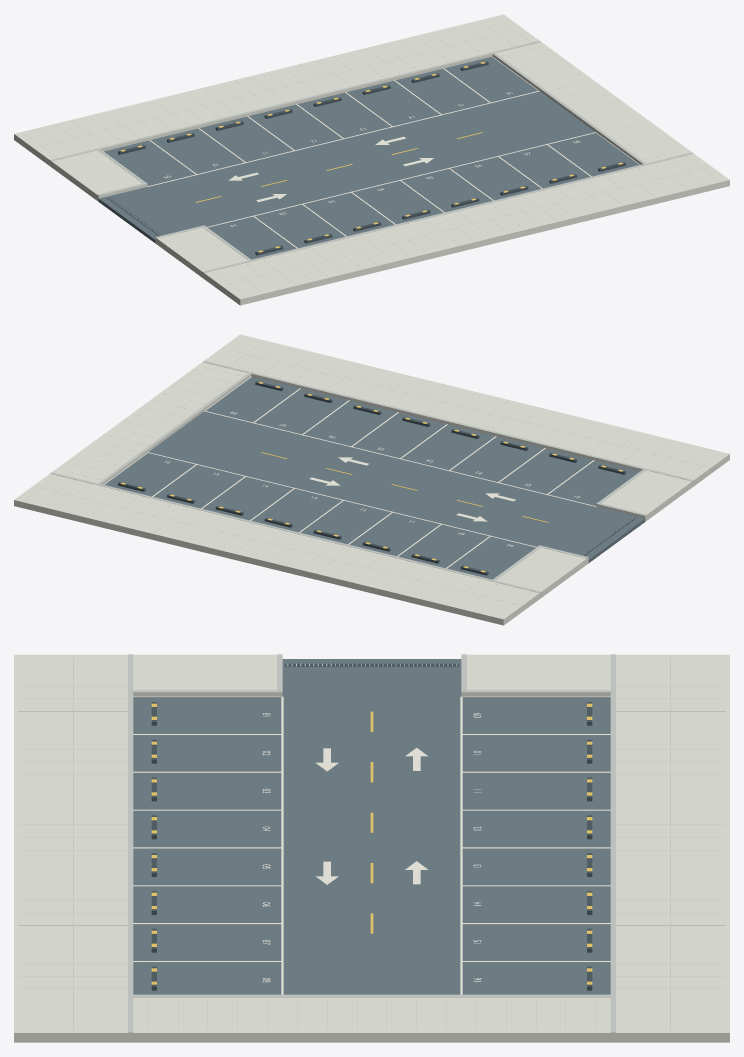
The model's file is SIMUS_Parking_Lot_16.glb.
The picture shows the model from 3 angles, top to bottom: view 1: azimuth 30°, elevation 25°; view 2: azimuth 150°, elevation 25°; view 3: azimuth 270°, elevation 25°; orthographic projection. The views are drawn at different scales.
Visible parts, largest first — view 1: Asphalt base, Perimeter, East walkway, West, Entrance asphalt, Parking, Sidewalk curb, Wheel stop, Paving joint, East inner curb; view 2: Asphalt base, Perimeter, East walkway, West, Entrance asphalt, Parking, Sidewalk curb, Wheel stop, Paving joint, East inner curb; view 3: Asphalt base, Perimeter, East walkway, West, Entrance asphalt, Parking, Sidewalk curb, Paving joint, Wheel stop, East inner curb, Direction arrow, Walkway joint (+1 smaller).
Boxes of the visible parts, x1,y1,x2,y2 form: Asphalt base: (104, 57, 638, 259); Perimeter: (14, 14, 729, 305); East walkway: (492, 42, 691, 164); West: (51, 149, 250, 277); Entrance asphalt: (98, 186, 200, 242); Parking: (147, 56, 639, 248); Sidewalk curb: (50, 40, 693, 272); Wheel stop: (118, 61, 625, 255); Paving joint: (25, 17, 719, 294); East inner curb: (493, 53, 645, 163); Asphalt base: (105, 377, 639, 579); Perimeter: (14, 334, 729, 625); East walkway: (52, 362, 251, 484); West: (493, 469, 692, 597); Entrance asphalt: (543, 506, 645, 562); Parking: (104, 376, 596, 568); Sidewalk curb: (50, 360, 693, 592); Wheel stop: (118, 381, 625, 575); Paving joint: (24, 337, 718, 614); East inner curb: (98, 373, 250, 483); Asphalt base: (133, 696, 610, 994); Perimeter: (14, 654, 729, 1042); East walkway: (133, 997, 610, 1042); West: (133, 654, 610, 696); Entrance asphalt: (282, 659, 461, 696); Parking: (133, 696, 610, 994); Sidewalk curb: (128, 654, 615, 1032); Paving joint: (18, 686, 725, 1030); Wheel stop: (151, 702, 592, 990); East inner curb: (133, 994, 610, 997); Direction arrow: (315, 747, 428, 884); Walkway joint: (73, 656, 670, 1030).
Size of the model in its own units: 30 by 0.37 by 24.
